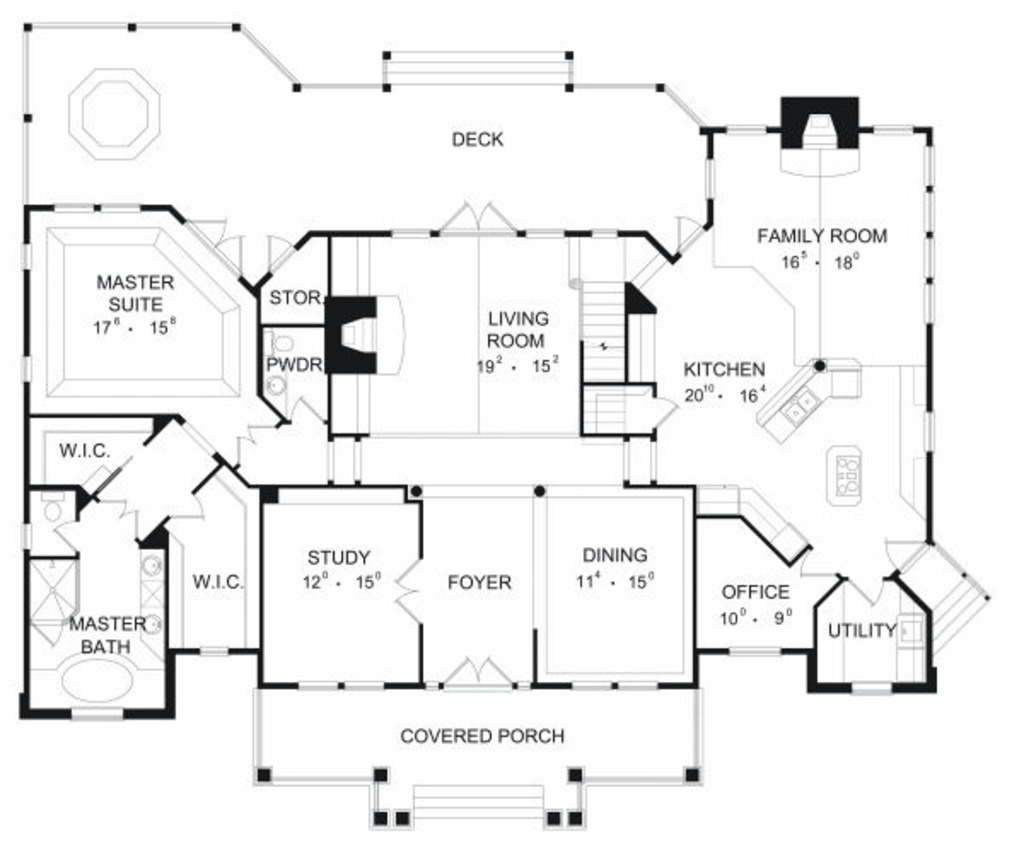door: (181, 199, 248, 280), (217, 418, 282, 465), (84, 490, 144, 537), (435, 203, 517, 236), (439, 656, 515, 690), (389, 560, 429, 624), (256, 228, 300, 274), (846, 569, 893, 611), (168, 485, 206, 531), (675, 216, 711, 259), (647, 390, 684, 428), (52, 523, 86, 556), (285, 397, 326, 423), (27, 620, 65, 648), (801, 552, 835, 582)
large_sink: (26, 490, 73, 528), (257, 332, 304, 353)
small_sink: (132, 552, 165, 656), (261, 373, 292, 402)
stairs: (560, 234, 650, 437), (894, 549, 996, 664)
tub: (57, 660, 144, 701)
twin_sink: (786, 389, 822, 427)
window: (917, 137, 944, 324), (292, 673, 385, 694), (52, 195, 144, 216), (190, 636, 240, 674), (561, 674, 664, 691), (68, 701, 130, 726), (921, 411, 947, 457), (698, 151, 722, 197), (726, 644, 781, 661), (848, 678, 896, 694), (17, 245, 42, 270)
